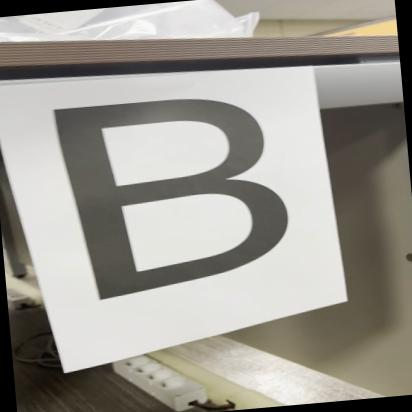seat: (46, 81, 313, 316)
